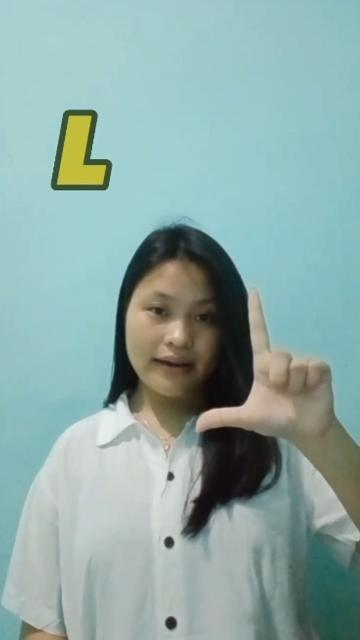L: (193, 288, 335, 446)
